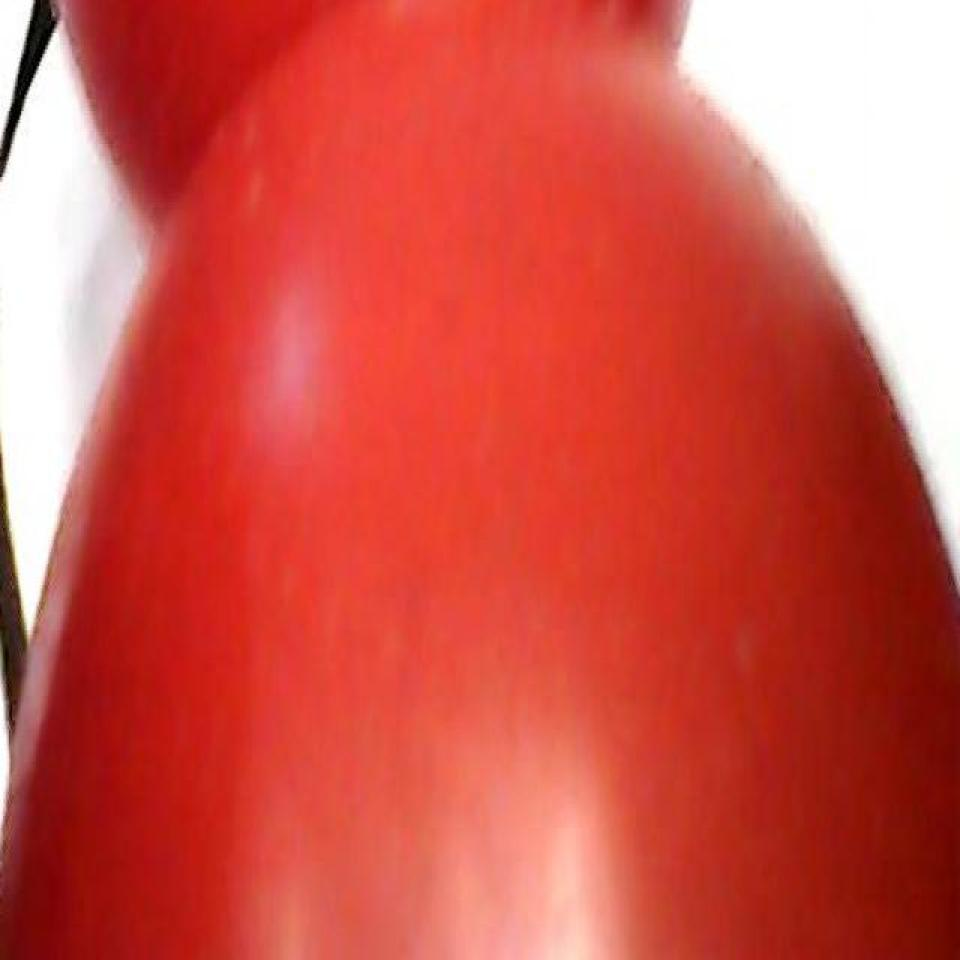Healthy: (25, 10, 955, 960)
